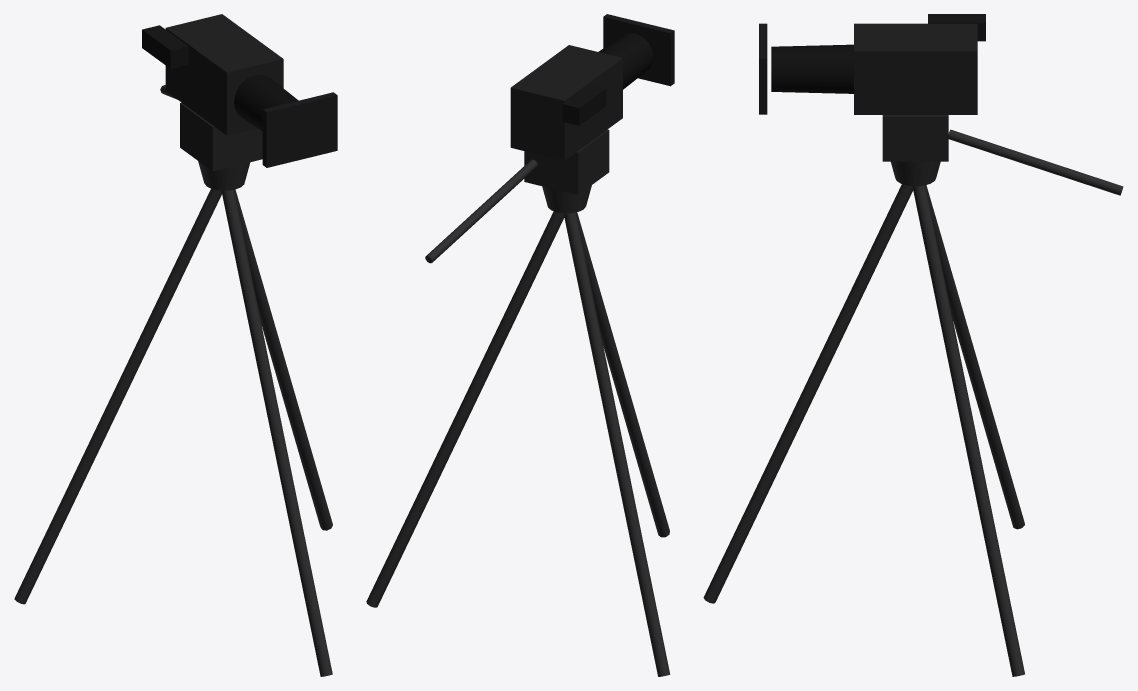
Rendered from cinepresa.glb.
The picture shows the model from 3 angles, left to right: view 1: azimuth 30°, elevation 25°; view 2: azimuth 150°, elevation 25°; view 3: azimuth 270°, elevation 25°; orthographic projection. The views are drawn at different scales.
Size of the model in its own units: 0.8947 by 1.51 by 1.02.
Materials: 1 (1 with a texture image).
